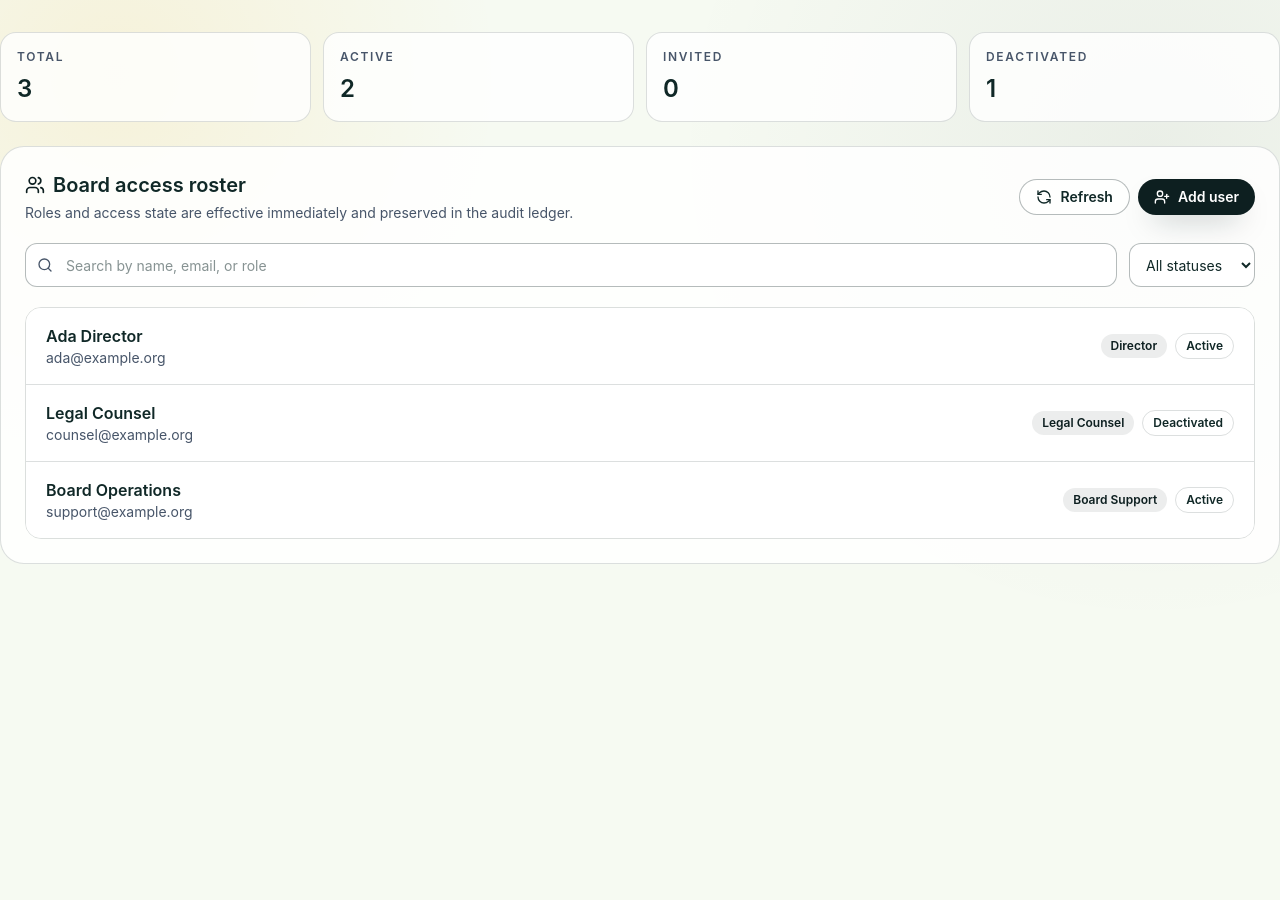
BoardUserManager › prevents self role and deactivation controls
This screenshot has width=1280, height=900.
Click the button "Ada Director ada@example.org Director Active". click: (94, 336)
box: [26,308,1254,384]
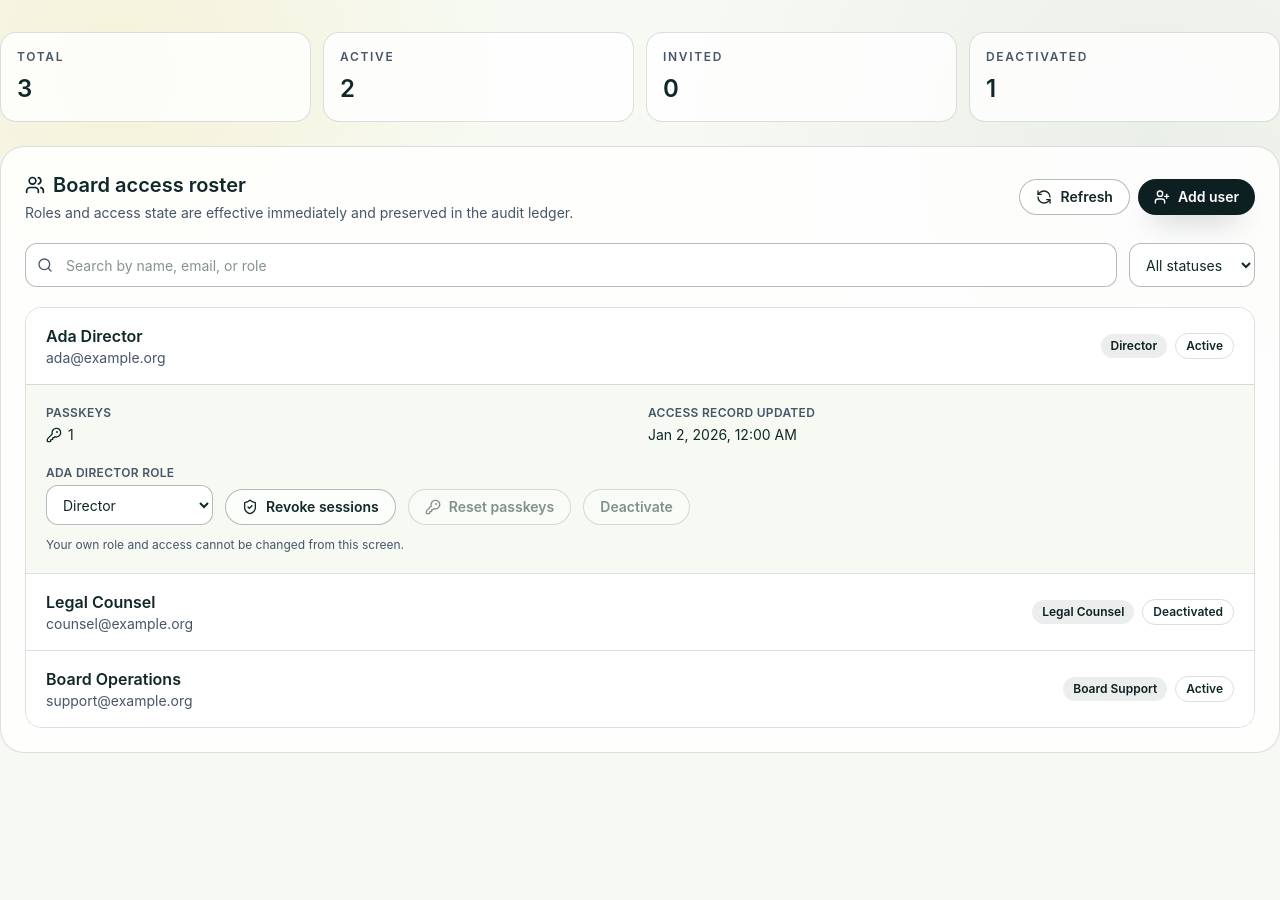
Now the dropdown labelled "Ada Director role" is disabled, box [46,485,213,525]
Now the button "Deactivate" is disabled, box [583,489,690,525]
